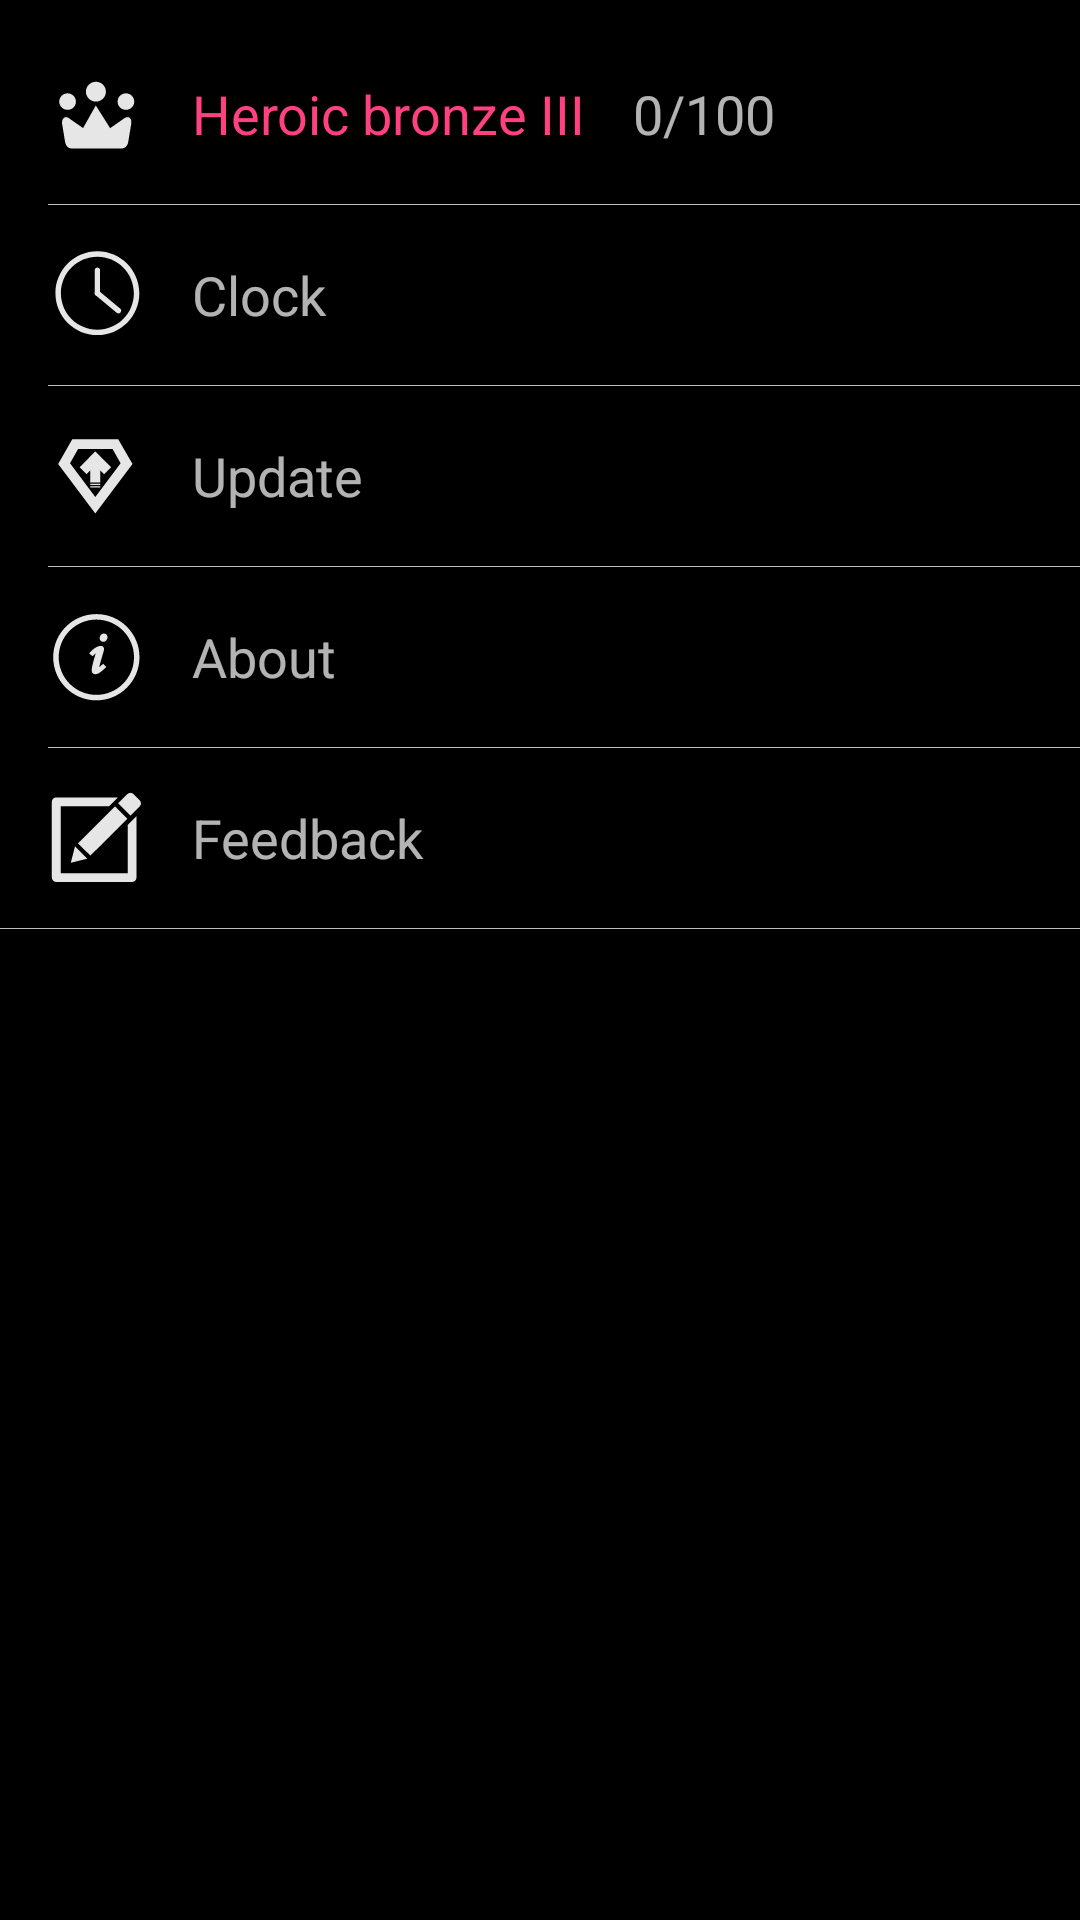

Icons on this 1080×1920 Android screen, each with the point to tap as (x,y):
rank: (97,115)
